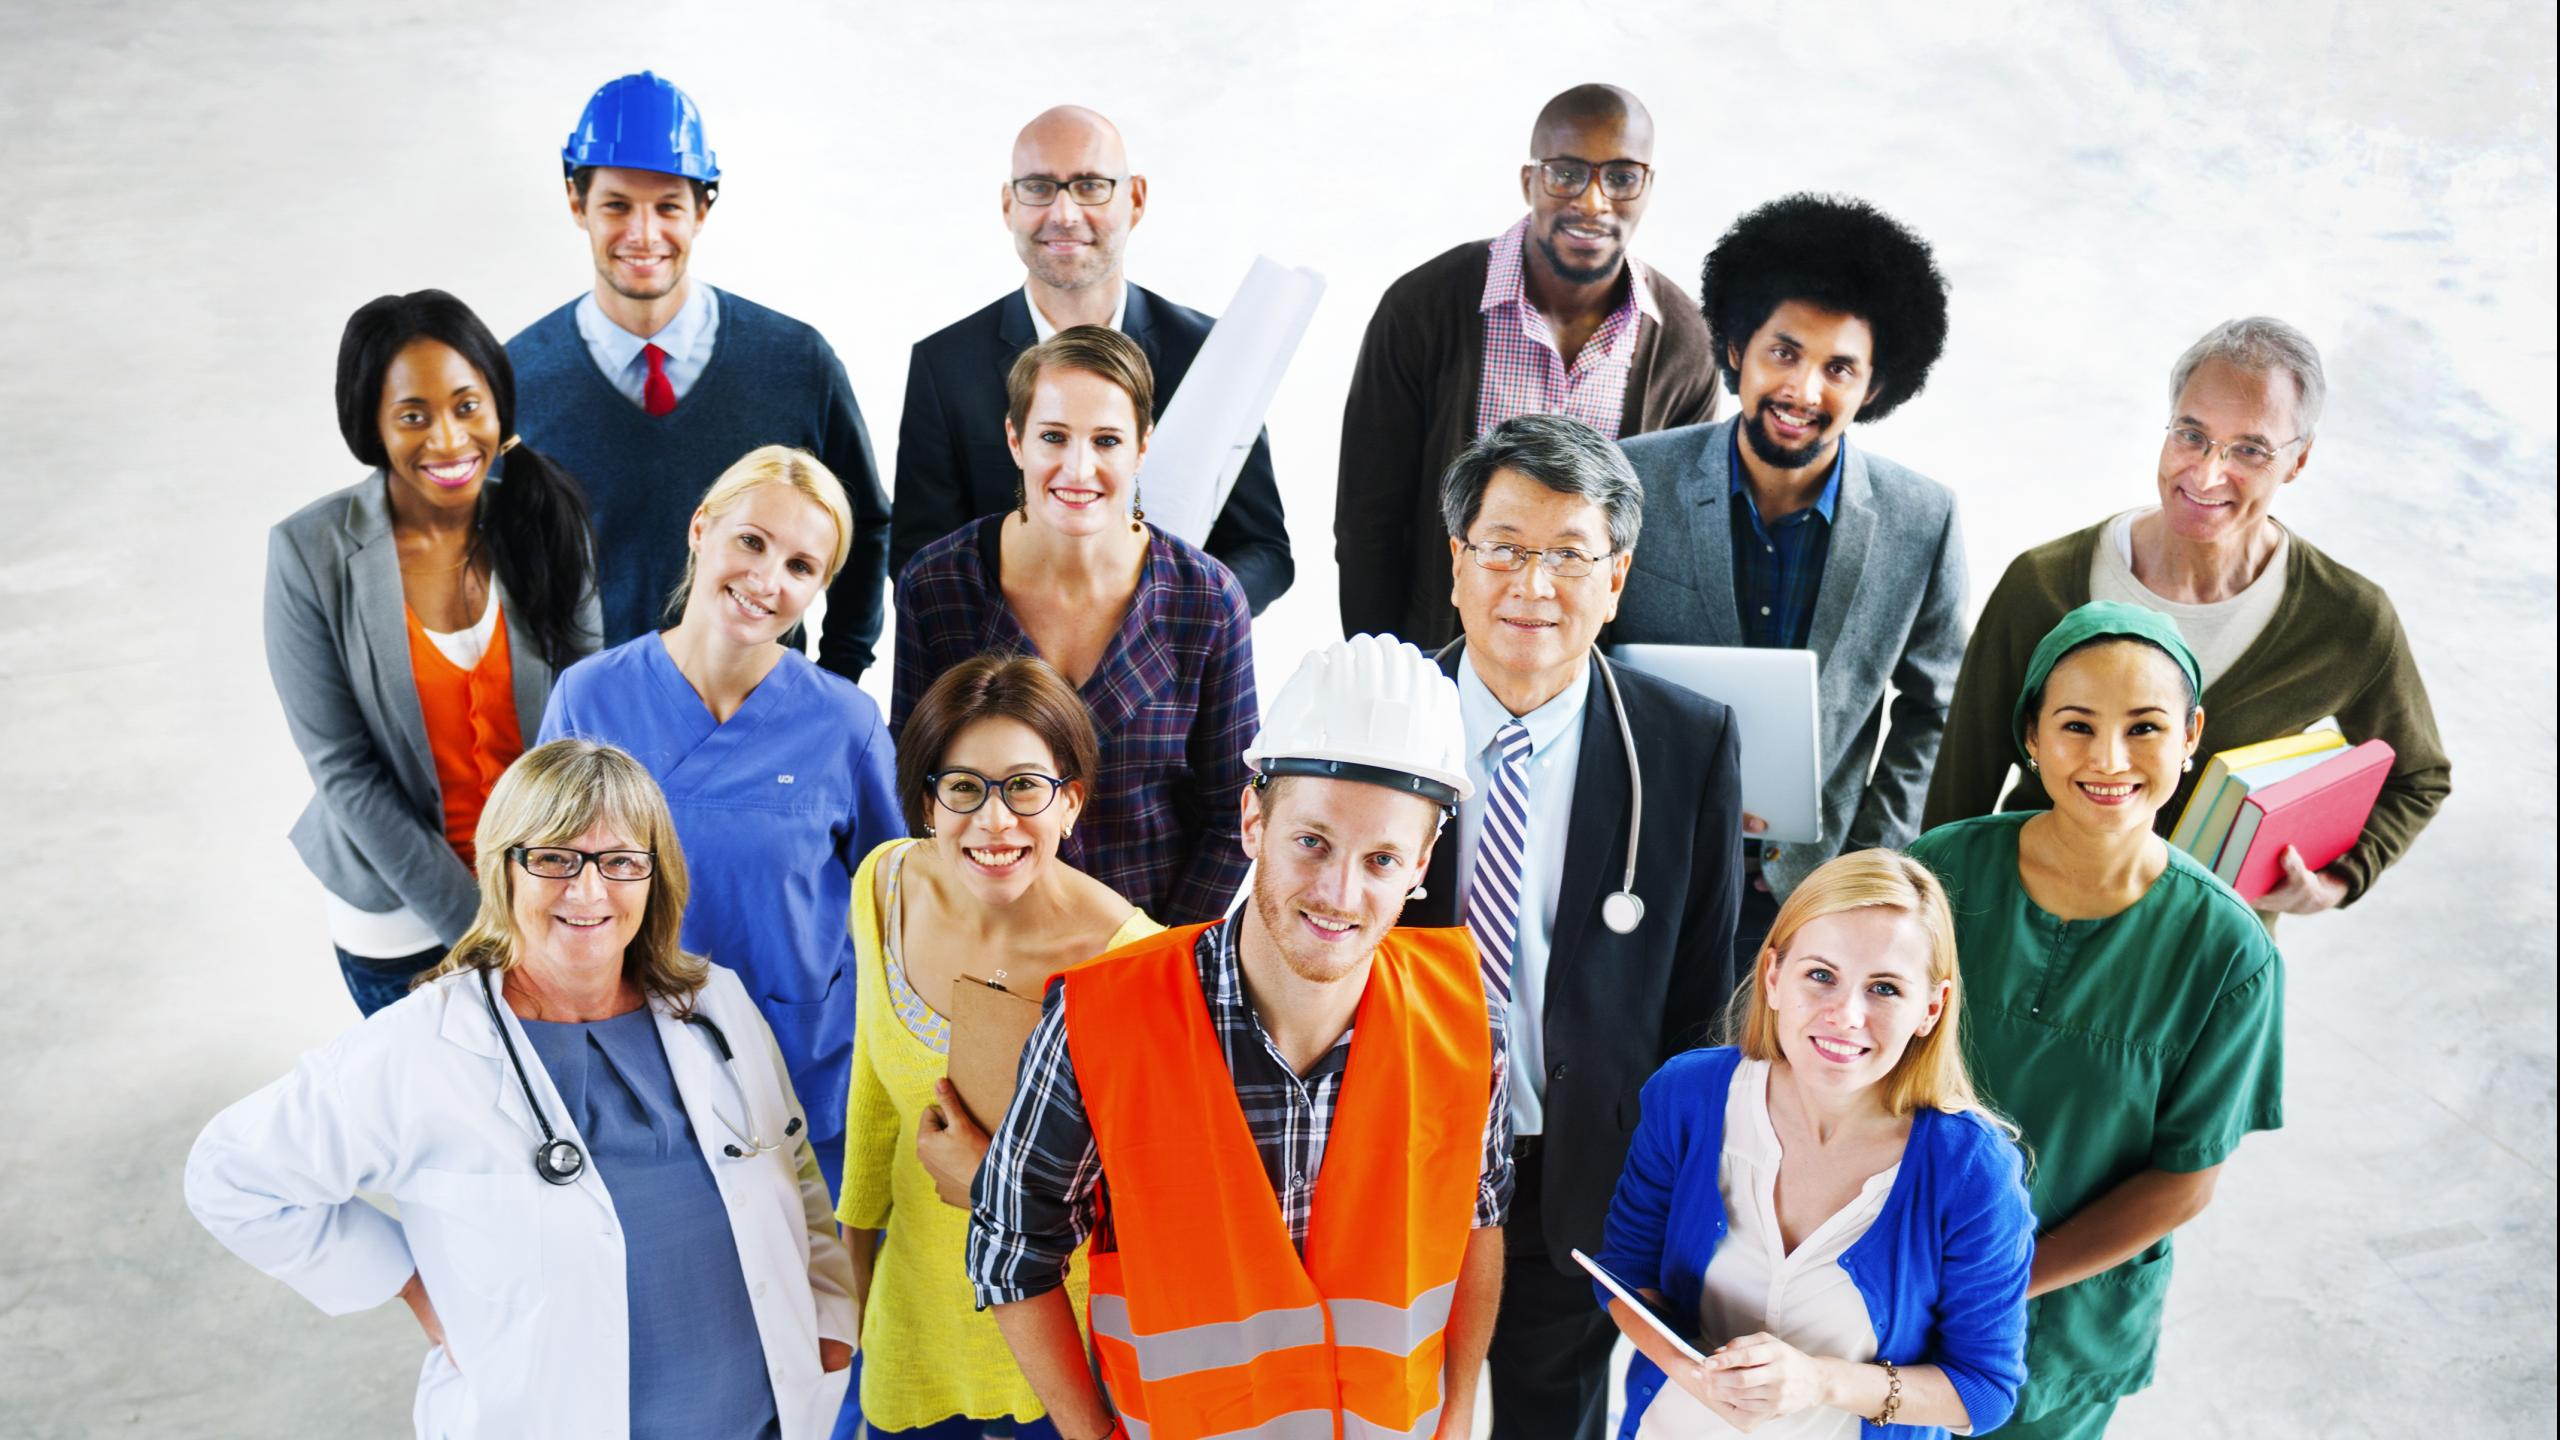person: (172, 745, 856, 1440), (969, 635, 1519, 1440), (1374, 416, 1743, 1440), (1896, 604, 2294, 1440), (1909, 315, 2459, 920), (1590, 195, 1967, 915), (1594, 842, 2038, 1440), (259, 285, 614, 1015), (541, 444, 890, 1187), (494, 73, 894, 689), (865, 664, 1167, 1440), (903, 315, 1278, 938), (1329, 80, 1727, 660), (896, 95, 1312, 625)
